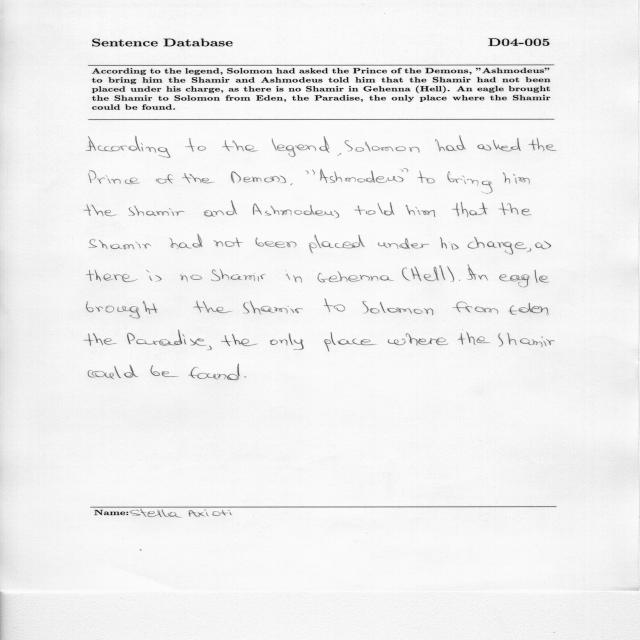word: (87, 136, 171, 158), (127, 330, 207, 346), (86, 301, 158, 318), (272, 136, 330, 157), (253, 204, 339, 218), (320, 169, 404, 183), (309, 235, 365, 254), (448, 171, 493, 194), (468, 237, 527, 254), (363, 301, 434, 315), (324, 332, 376, 351), (345, 140, 420, 153), (499, 270, 549, 288), (243, 301, 303, 315), (318, 271, 394, 282), (189, 364, 240, 380), (499, 333, 555, 347), (88, 171, 140, 185), (388, 333, 448, 345), (88, 365, 138, 379), (231, 171, 286, 183), (211, 269, 266, 281), (86, 270, 138, 282), (90, 239, 152, 249), (129, 206, 185, 217), (453, 302, 499, 315), (270, 333, 304, 350), (477, 138, 521, 151), (378, 238, 429, 249), (451, 202, 488, 217), (411, 265, 445, 281), (354, 202, 395, 215), (204, 201, 237, 217), (508, 302, 548, 315), (169, 234, 203, 249), (193, 301, 232, 313), (435, 136, 466, 151), (221, 334, 258, 346), (223, 140, 259, 152), (499, 203, 532, 216), (84, 333, 117, 346), (255, 238, 297, 248), (458, 332, 490, 345), (84, 204, 117, 216), (529, 138, 557, 151), (406, 205, 435, 217), (467, 265, 488, 281), (182, 173, 215, 183), (503, 173, 530, 185), (151, 365, 178, 377), (185, 138, 206, 152), (214, 238, 243, 248), (324, 299, 345, 312), (440, 237, 459, 250), (417, 171, 435, 183), (146, 270, 162, 282), (156, 174, 173, 184), (180, 275, 202, 282), (286, 274, 302, 283), (535, 241, 551, 249), (402, 267, 410, 281), (447, 266, 454, 282), (305, 170, 315, 175), (207, 346, 212, 350), (527, 248, 531, 252), (404, 169, 409, 172), (337, 153, 341, 156), (290, 183, 293, 185), (547, 313, 549, 315), (459, 280, 460, 281), (244, 377, 246, 377)
